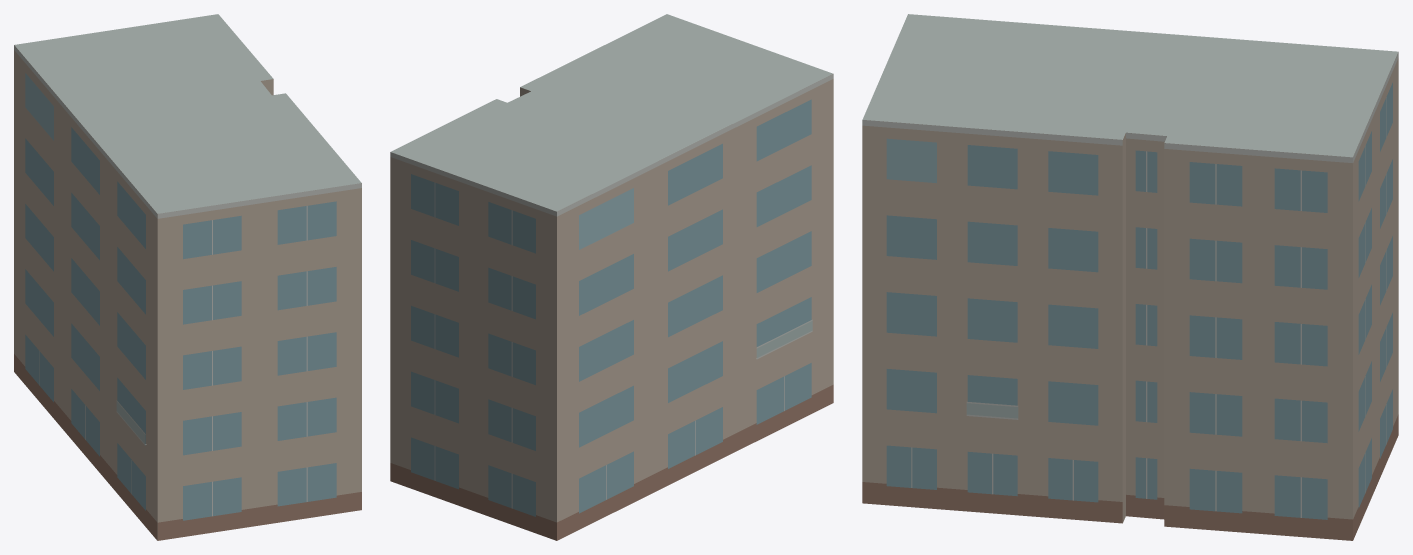
The model's file is survey-upis-32528894.glb.
3 renders of one model, left to right at view 1: azimuth 30°, elevation 25°; view 2: azimuth 150°, elevation 25°; view 3: azimuth 270°, elevation 25°, orthographic. The views are drawn at different scales.
Visible parts, largest first — view 1: survey-upis-32528894.tmp; view 2: survey-upis-32528894.tmp; view 3: survey-upis-32528894.tmp.
Part boxes in pixels (bbox=[...]): survey-upis-32528894.tmp: bbox=[14, 14, 361, 540]; survey-upis-32528894.tmp: bbox=[390, 14, 833, 540]; survey-upis-32528894.tmp: bbox=[862, 14, 1398, 540].
Bounding box in the file's own units: 12.92 × 16.1 × 20.41.
